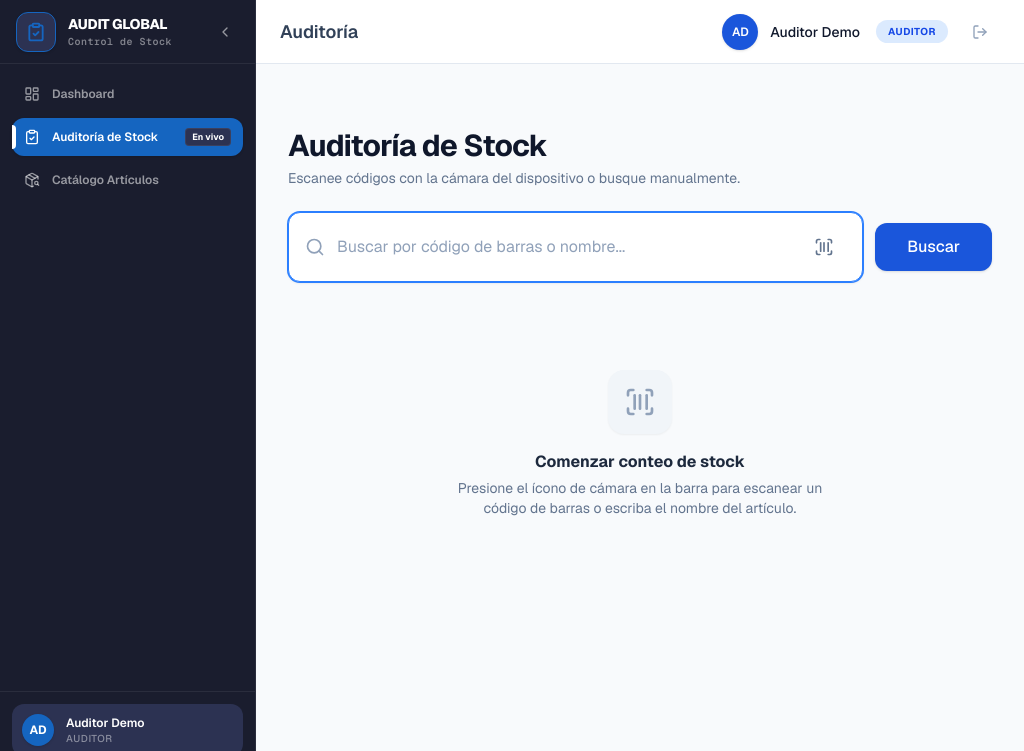
Test: AuditPage › selects article when exact barcode match is submitted
Type "7791234567890" into the field with placeholder "Buscar por código de barras o nombre..." at [570, 247], box 337,235 -> 802,259
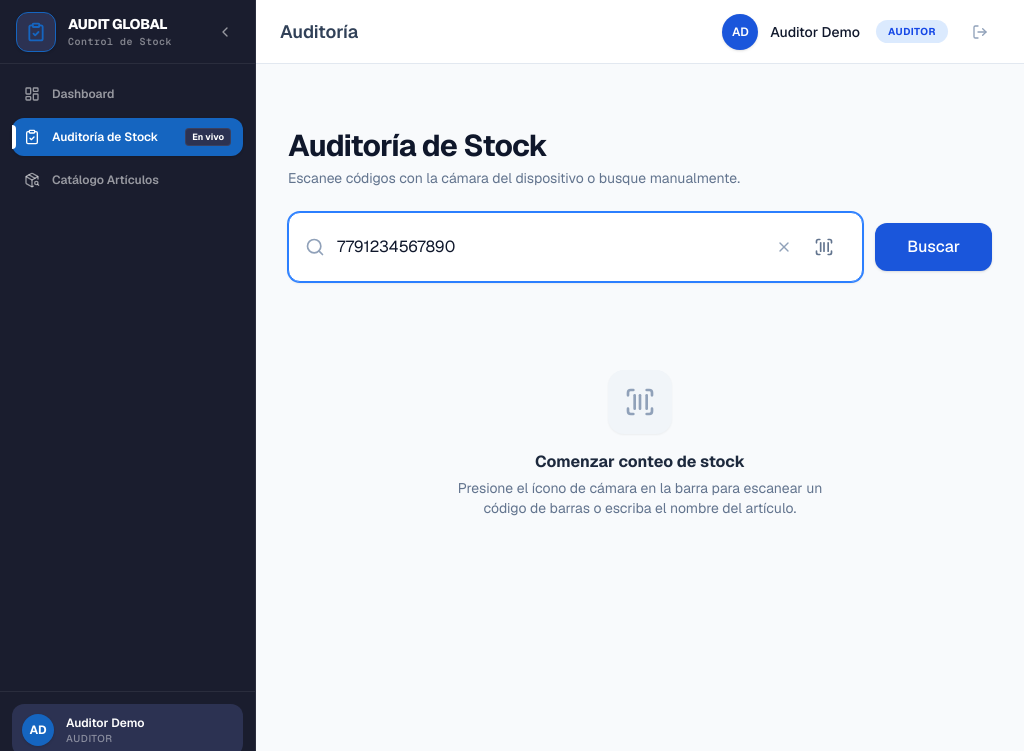
Click the button "Buscar" at [934, 247], box 875,223 -> 992,271
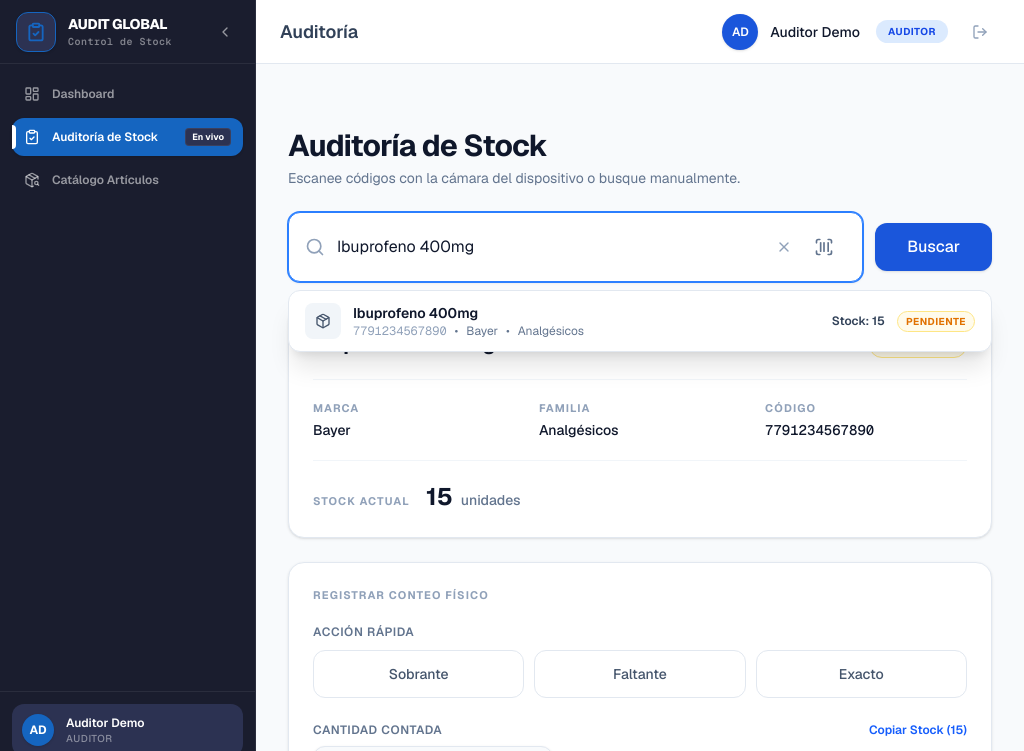
Result: the heading "Ibuprofeno 400mg" is shown at 313,331 -> 496,358
Result: the text "15" is shown at 426,481 -> 453,513
